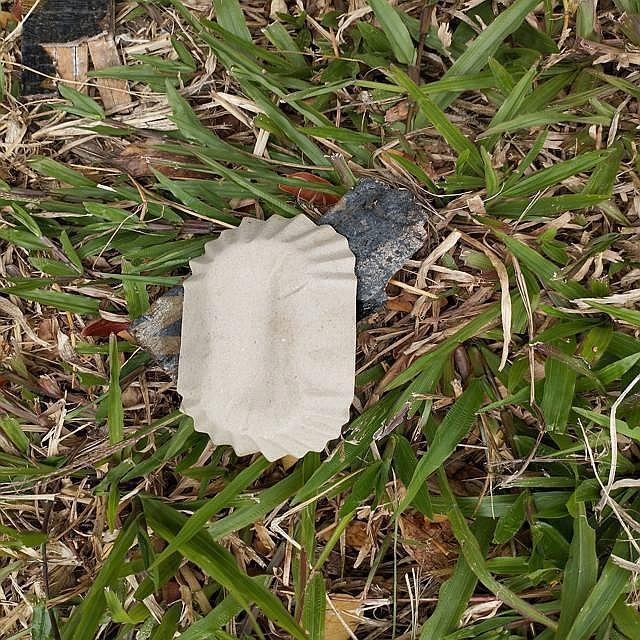Biodegradable: (181, 217, 356, 455)
